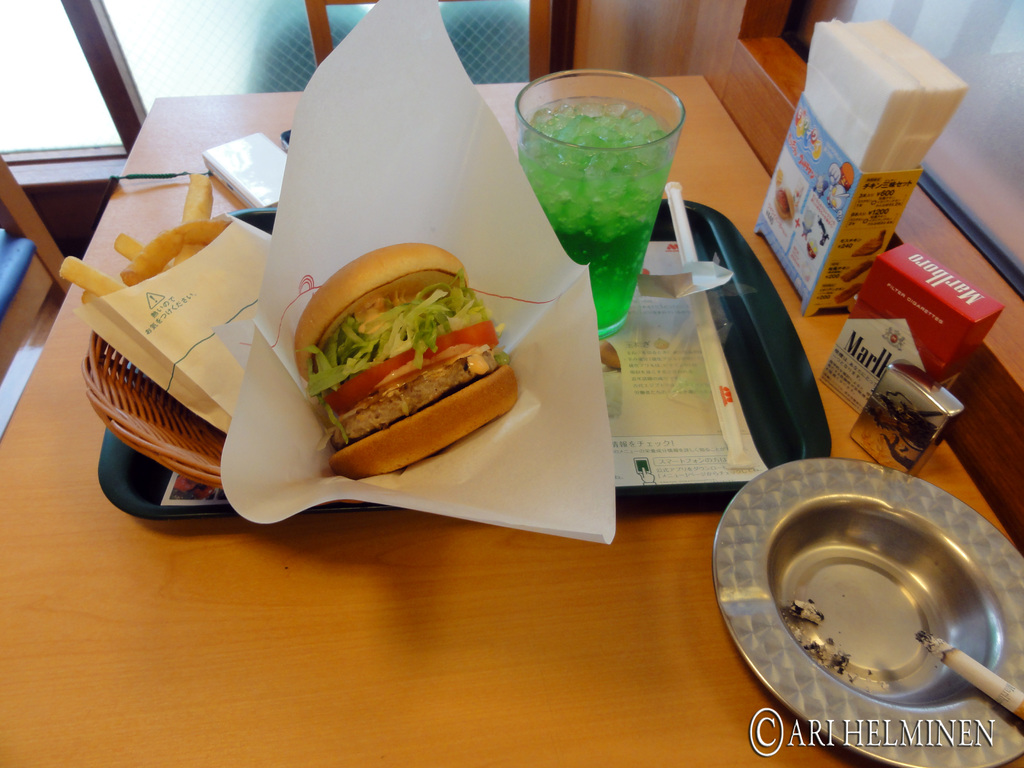Hamburger: (299, 238, 516, 480)
